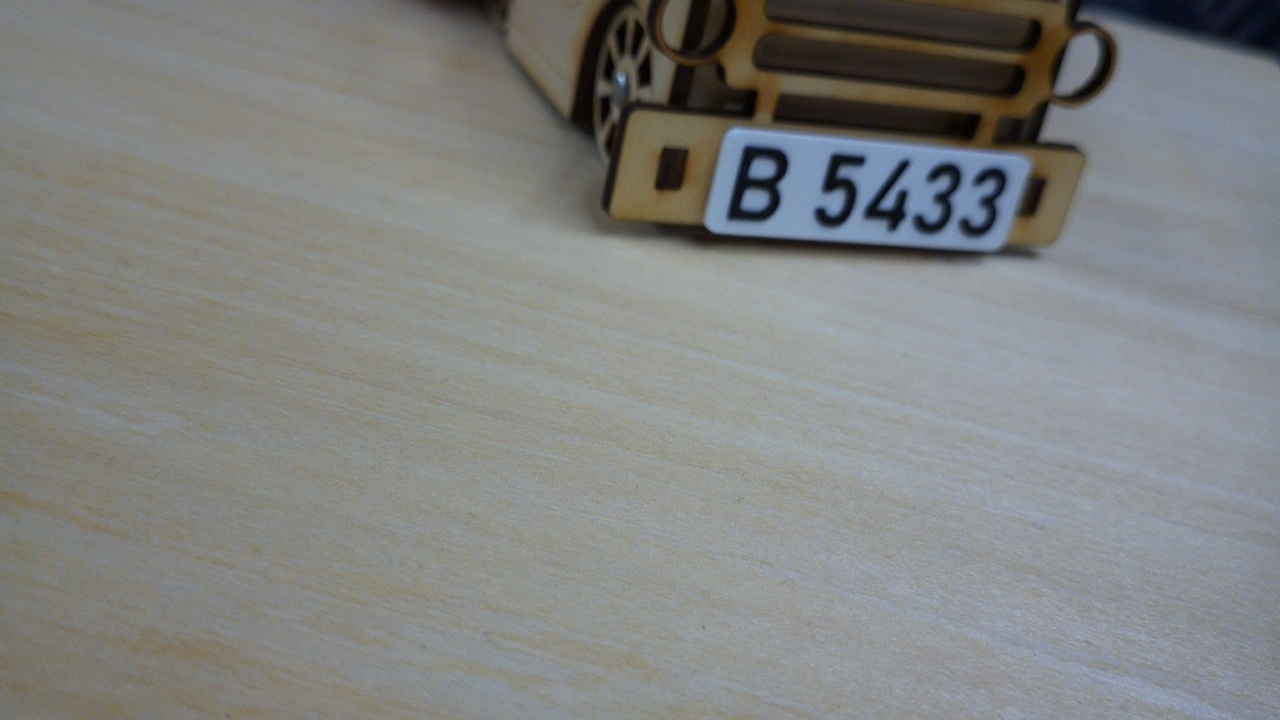license_plate: (699, 122, 1033, 258)
